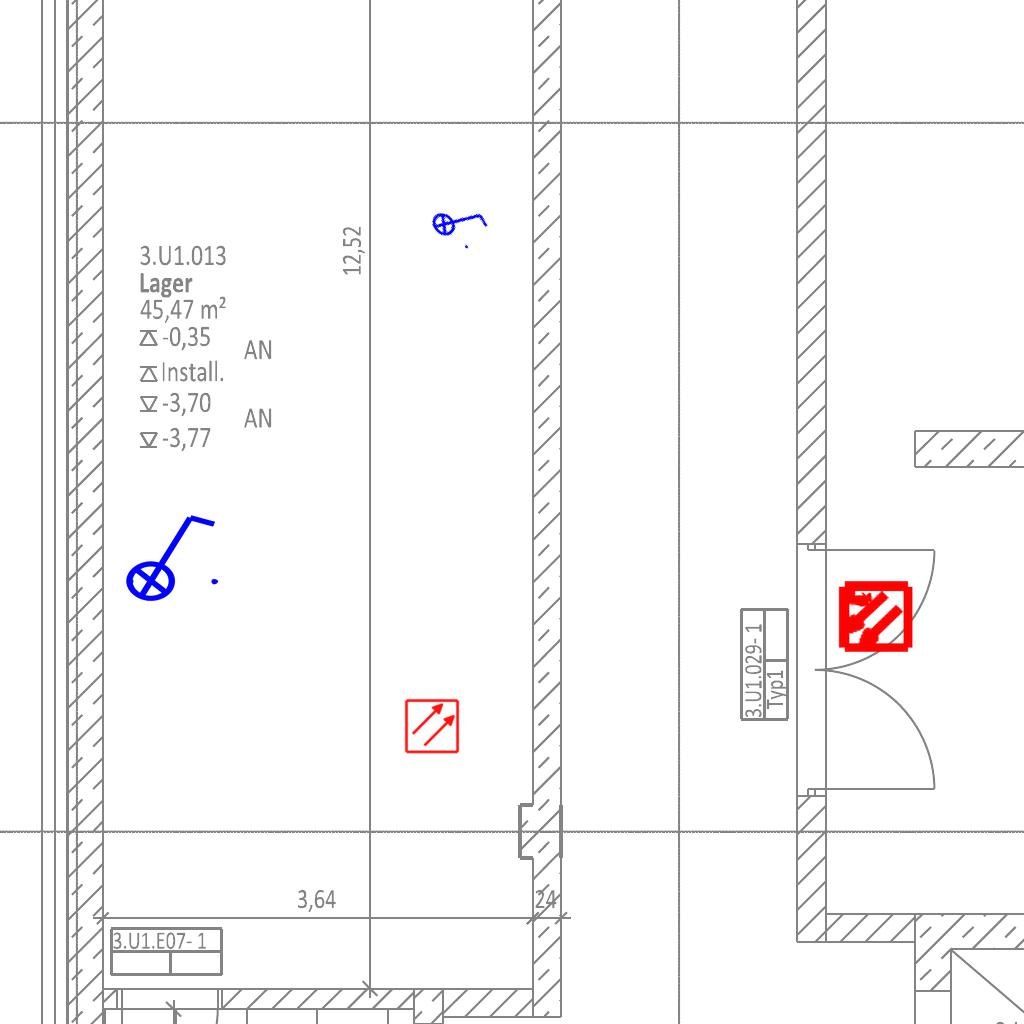Ausschalter_beleuchtet: (112, 507, 224, 603), (422, 184, 496, 258)
OT_Multisensormelder_(Kombination_RMO_WMD): (817, 560, 930, 673)
RMO_Rauchmelder_optischer: (404, 698, 460, 754)
